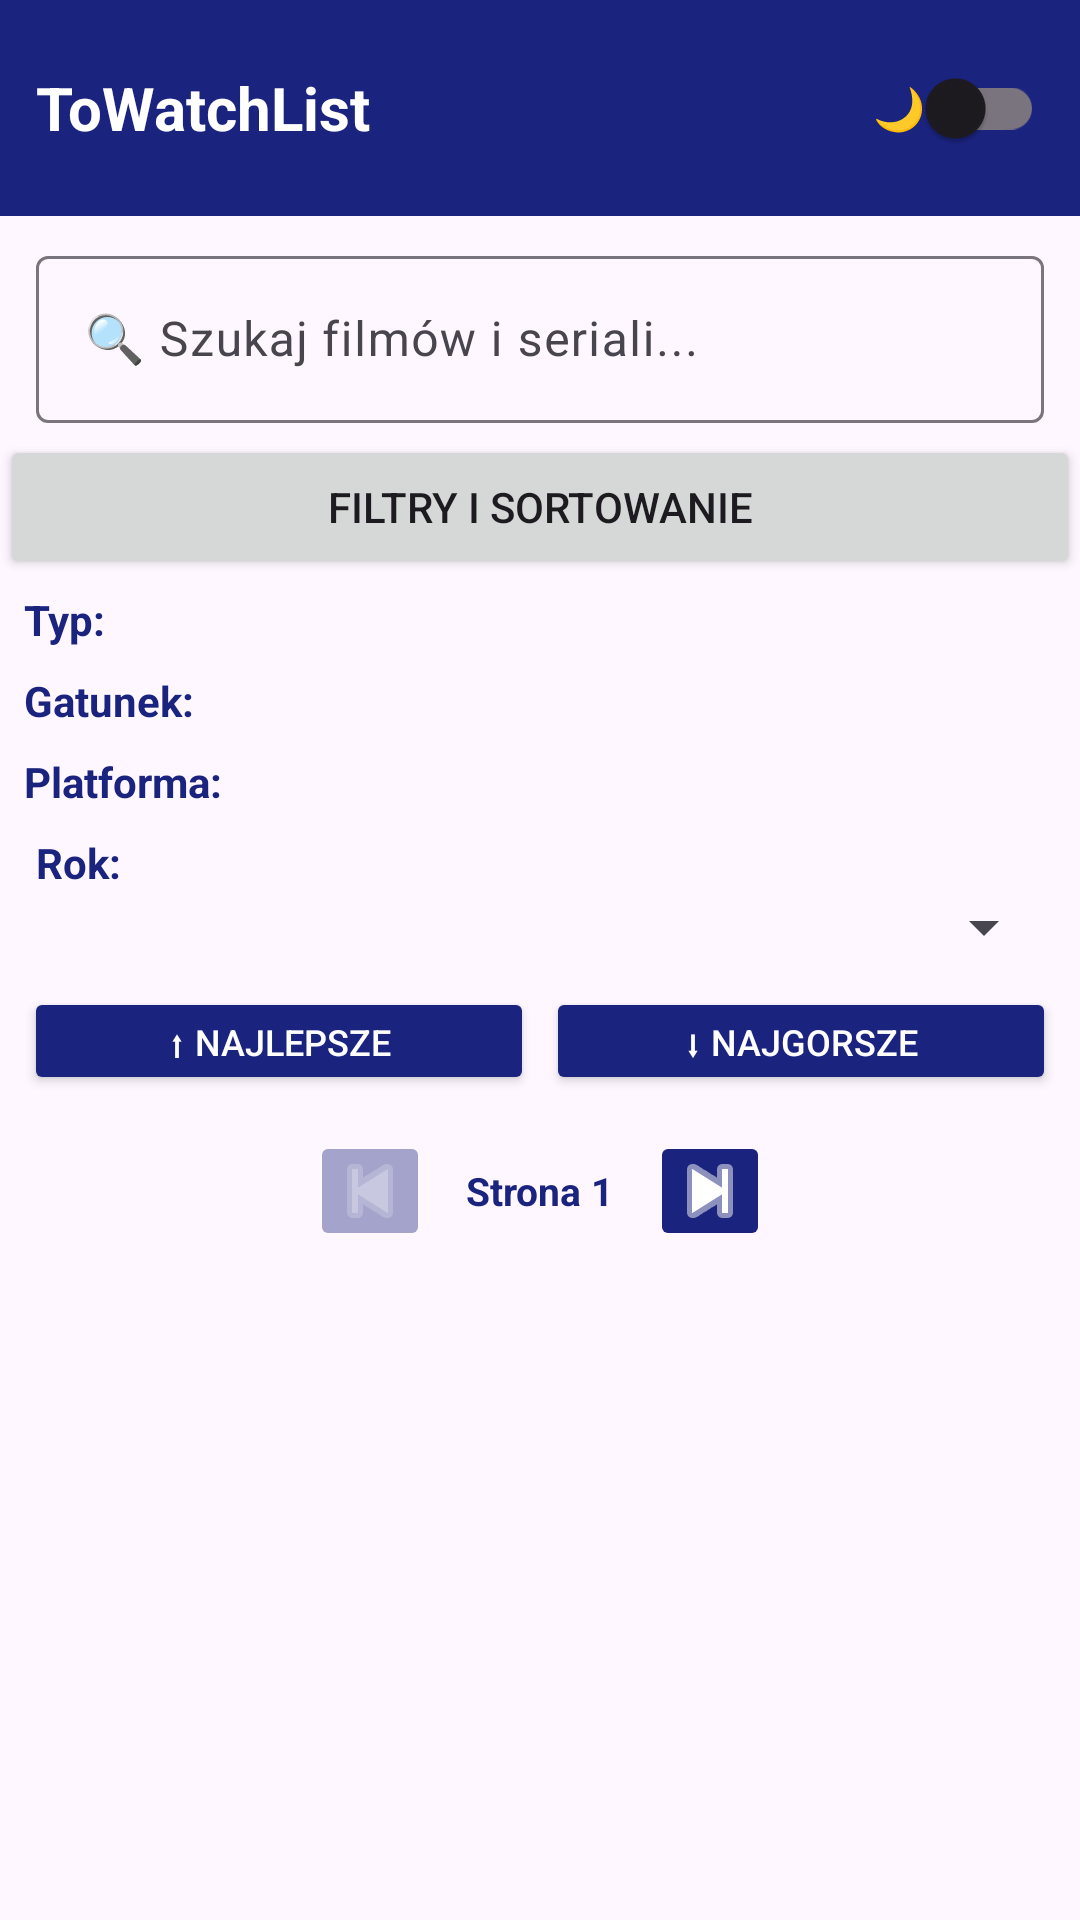

Icons on this 1080w x 1920h Android screen, each with the point to tap as [x,y]:
next: [710,1191]
previous: [370,1191]
